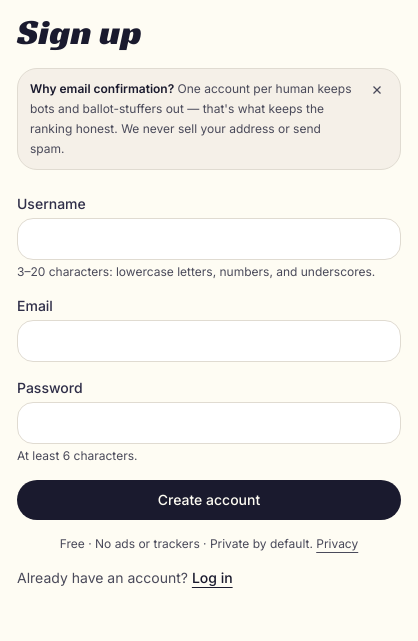
Scenario: SignupPage › shows the server error on failure
The image size is (418, 641).
Type "coaster_fan" into the field labelled "Username" at (209, 239), box [17,218,401,260]
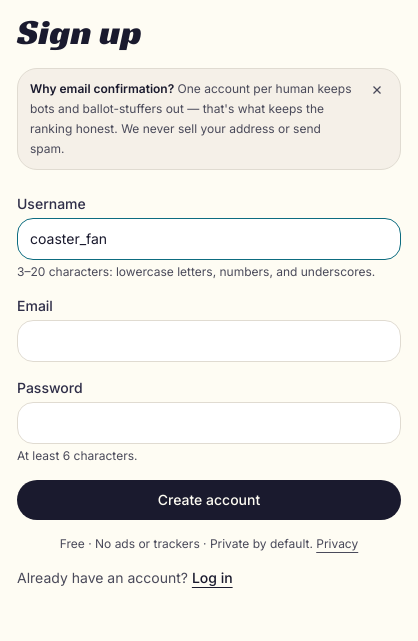
Type "a@example.com" into the field labelled "Email" at (209, 341), box [17,320,401,362]
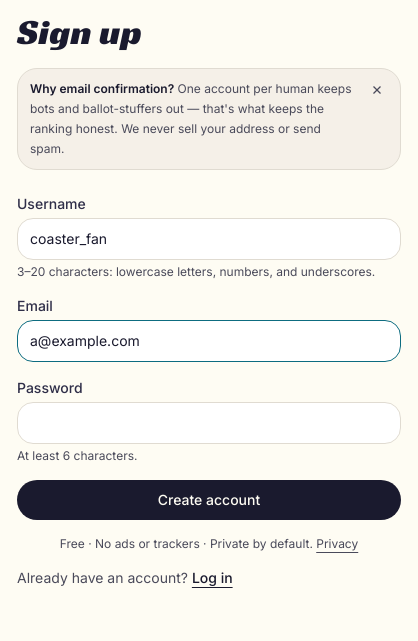
Type "secret1" into the password field labelled "Password" at (209, 423), box [17,402,401,444]
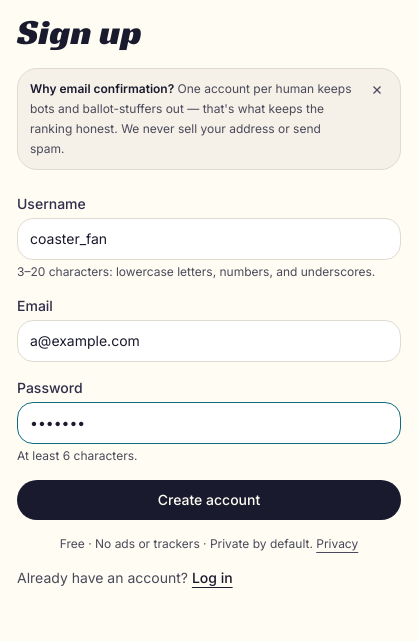
Click the button "Create account" at (209, 500), box [17,480,401,520]
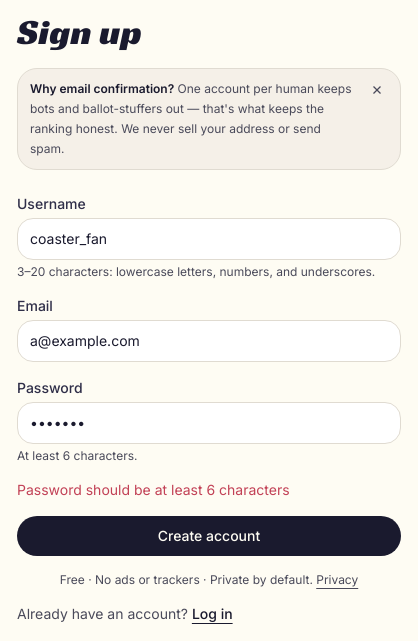
Result: the text "Password should be at least 6 characters" is shown at [17,481,290,498]
